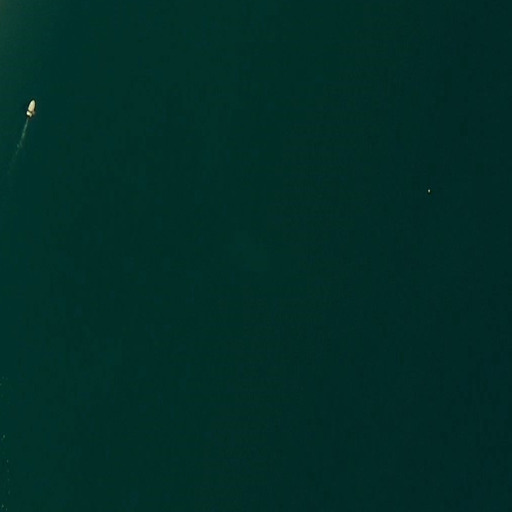ship: (25, 97, 36, 118)
